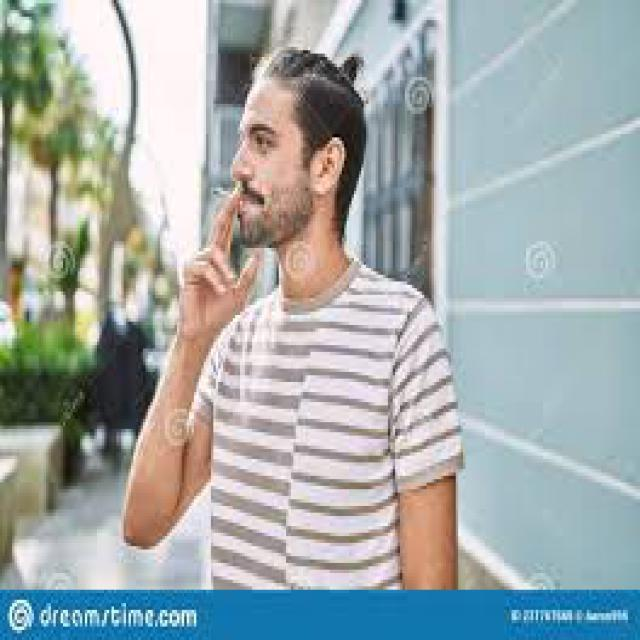smoking: (204, 163, 278, 223)
